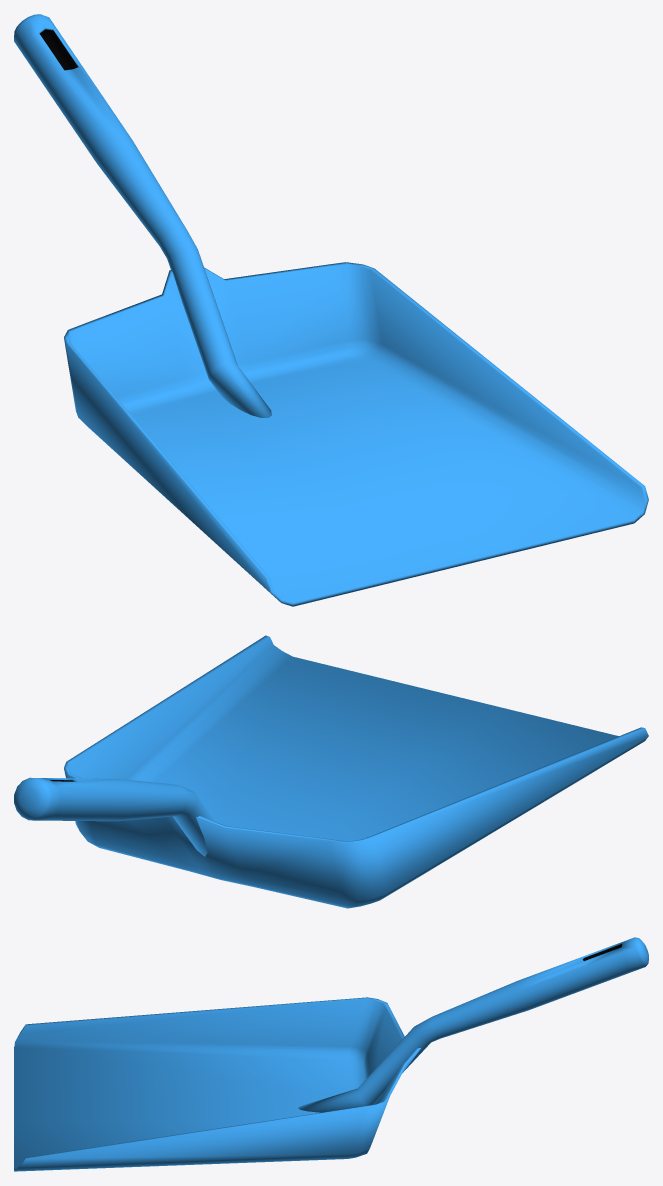
Rendered from sweethome3d-scopia-shovel-155.glb.
The picture shows the model from 3 angles, top to bottom: view 1: azimuth 30°, elevation 25°; view 2: azimuth 150°, elevation 25°; view 3: azimuth 270°, elevation 25°; orthographic projection. The views are drawn at different scales.
Visible parts, largest first — view 1: Cylinder; view 2: Cylinder; view 3: Cylinder.
Boxes of the visible parts, x1,y1,x2,y2 form: Cylinder: (14, 14, 648, 606); Cylinder: (14, 635, 648, 908); Cylinder: (14, 937, 648, 1171).
Bounding box in the file's own units: 26.99 × 16.1 × 53.83.
